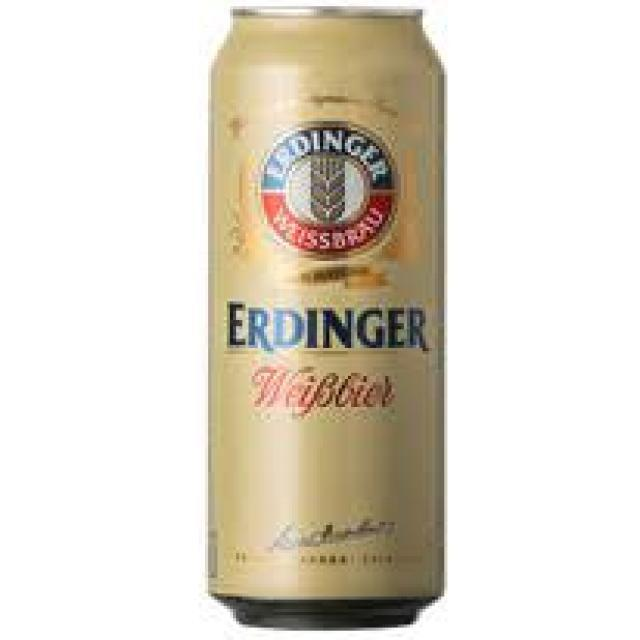recyclable: (211, 7, 446, 633)
